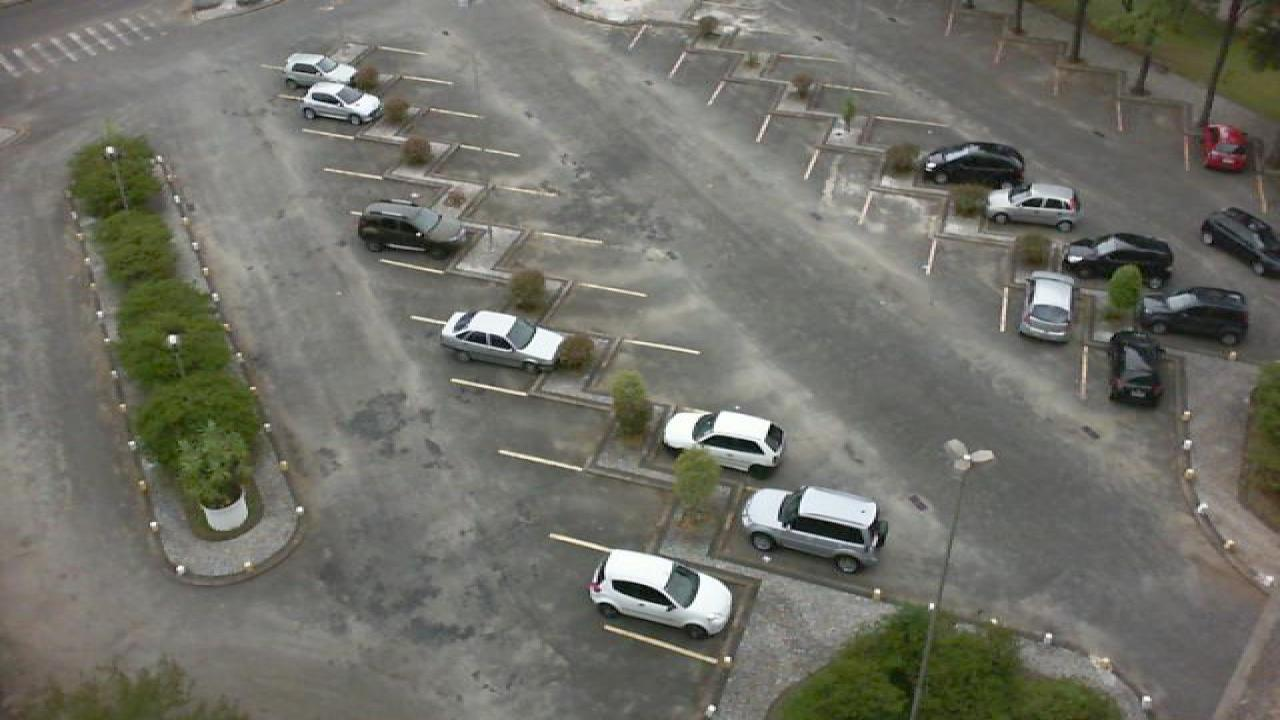Car: (586, 548, 734, 639), (738, 483, 888, 572), (438, 308, 566, 375), (660, 407, 788, 474), (1132, 284, 1254, 348), (354, 196, 468, 258), (1058, 232, 1176, 284), (1198, 206, 1280, 277), (920, 139, 1026, 188), (1102, 327, 1166, 408), (986, 181, 1084, 233), (1016, 268, 1076, 343), (300, 81, 386, 125), (282, 52, 360, 91), (1198, 121, 1252, 174)
